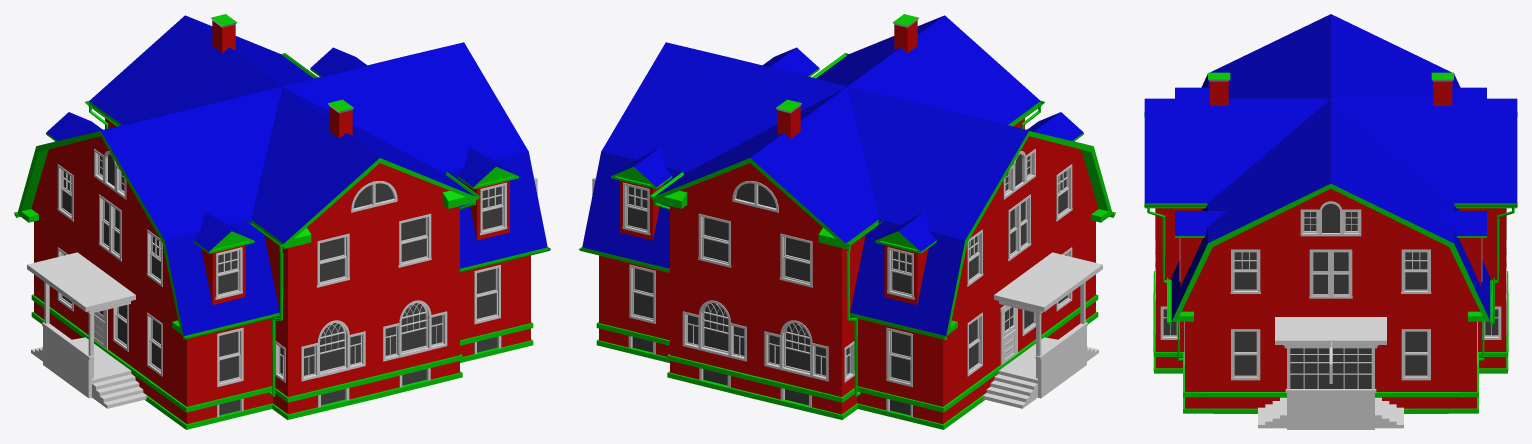
The model's file is 265Clarissa.fbx.
3 views of the same model, side by side, from view 1: azimuth 30°, elevation 25°; view 2: azimuth 150°, elevation 25°; view 3: azimuth 270°, elevation 25° (orthographic). The views are drawn at different scales.
Parts seen in each view (by area): view 1: 265Clarissa.Walls, 265Clarissa.Porch.Rear, Wndw013.003, Wndw013.002, Wndw021.000, Wndw021.001, Windw011.000, Windw011.001, Wndw022.001, Wndw022.000, Wndw031.000, Wndw032.000 (+10 smaller); view 2: 265Clarissa.Walls, 265Clarissa.Porch.Rear, Wndw013.001, Wndw013.000, Wndw021.003, Wndw021.002, Windw011.004, Windw011.005, Wndw022.002, Wndw022.003, Wndw031.001, Wndw032.000 (+10 smaller); view 3: 265Clarissa.Walls, 265Clarissa.Porch, Wndw032.001, Windw011.006, Windw011.007, Wndw022.006, Wndw022.007, Wndw023.002, Wndw023.003, Wndw012.004, Wndw012.011.
Part boxes in pixels (x1,y1,x2,y2): 265Clarissa.Walls: (14,14,550,429); 265Clarissa.Porch.Rear: (27,252,146,408); Wndw013.003: (399,300,431,357); Wndw013.002: (317,320,349,377); Wndw021.000: (316,233,349,287); Wndw021.001: (398,213,431,267); Windw011.000: (217,327,243,387); Windw011.001: (474,265,500,324); Wndw022.001: (479,182,507,235); Wndw022.000: (215,247,242,299); Wndw031.000: (351,180,397,212); Wndw032.000: (94,149,126,199); 265Clarissa.Walls: (579,14,1115,429); 265Clarissa.Porch.Rear: (983,252,1102,408); Wndw013.001: (780,320,812,377); Wndw013.000: (698,300,730,357); Wndw021.003: (779,233,812,287); Wndw021.002: (698,213,731,267); Windw011.004: (886,327,912,387); Windw011.005: (629,264,655,323); Wndw022.002: (622,182,650,235); Wndw022.003: (887,247,914,299); Wndw031.001: (732,180,778,212); Wndw032.000: (1003,149,1035,199); 265Clarissa.Walls: (1144,14,1517,413); 265Clarissa.Porch: (1258,317,1403,429); Wndw032.001: (1300,201,1361,236); Windw011.006: (1401,329,1430,380); Windw011.007: (1231,329,1260,380); Wndw022.006: (1230,249,1260,293); Wndw022.007: (1401,249,1431,293); Wndw023.002: (1329,249,1352,298); Wndw023.003: (1309,249,1330,298); Wndw012.004: (1160,306,1179,339); Wndw012.011: (1482,306,1501,339).
Bounding box in the file's own units: 2214 × 1181 × 1558.
